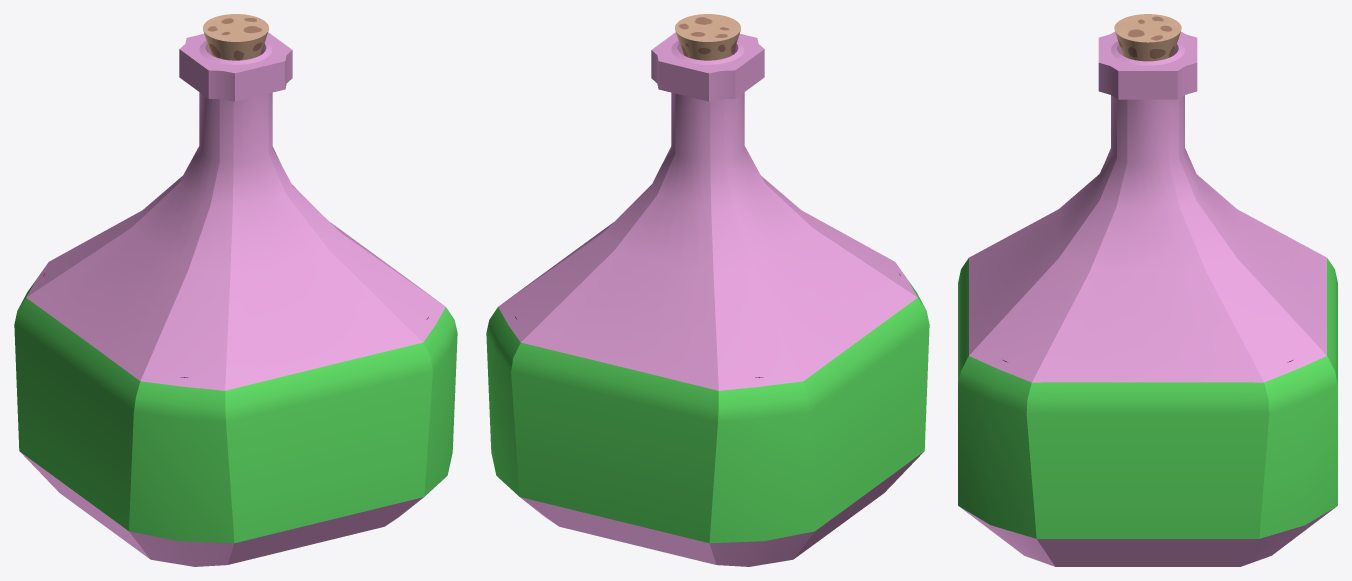
File: FatPotion.fbx
3 renders of one model, left to right at view 1: azimuth 30°, elevation 25°; view 2: azimuth 150°, elevation 25°; view 3: azimuth 270°, elevation 25°, orthographic.
Visible parts, largest first — view 1: FatJar, FatLabel, FatCork; view 2: FatJar, FatLabel, FatCork; view 3: FatJar, FatLabel, FatCork.
Part boxes in pixels (<box>): FatJar: <box>20,32,445,566</box>; FatLabel: <box>14,281,457,543</box>; FatCork: <box>203,14,268,60</box>; FatJar: <box>498,32,923,566</box>; FatLabel: <box>486,280,929,543</box>; FatCork: <box>675,14,740,60</box>; FatJar: <box>959,31,1336,566</box>; FatLabel: <box>958,258,1337,538</box>; FatCork: <box>1114,14,1181,61</box>.
Size of the model in its own units: 0.5039 by 0.5039 by 0.6982.
